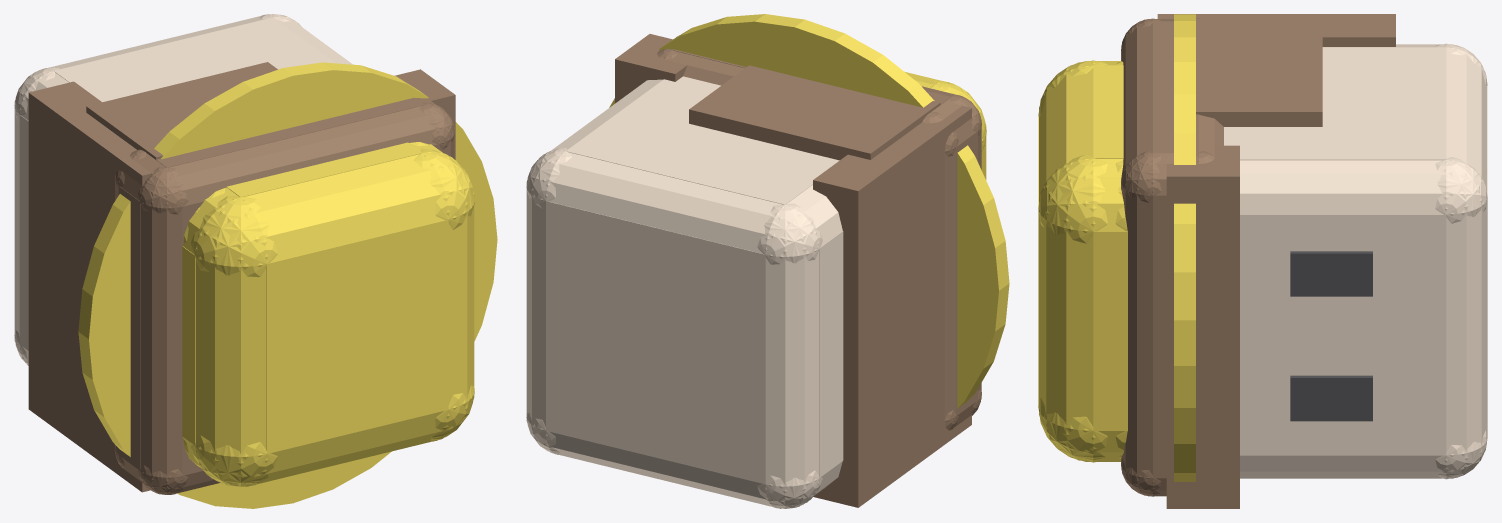
The model's file is head.glb.
3 views of the same model, side by side, from view 1: azimuth 30°, elevation 25°; view 2: azimuth 150°, elevation 25°; view 3: azimuth 270°, elevation 25° (orthographic). The views are drawn at different scales.
Visible parts, largest first — view 1: hat_crown_z_visual, hat_brim_visual, hair_back_visual, hat_crown_edge5_visual, hat_crown_edge3_visual, hair_top_edge5_visual, head_y_visual, hair_top_edge3_visual, hat_crown_edge1_visual, hair_side_left_visual, hat_crown_edge7_visual, hair_top_x_visual (+18 smaller); view 2: head_z_visual, hair_back_visual, hat_brim_visual, head_y_visual, hair_side_left_visual, head_edge4_visual, head_edge2_visual, head_x_visual, head_edge0_visual, head_edge6_visual, hair_top_edge4_visual, head_edge9_visual (+8 smaller); view 3: head_x_visual, hair_fringe_visual, head_y_visual, hair_side_left_visual, hat_crown_edge7_visual, head_edge11_visual, head_edge6_visual, hat_brim_visual, hair_top_edge7_visual, hat_crown_x_visual, hat_crown_edge3_visual, head_edge2_visual (+15 smaller).
Boxes of the visible parts, x1,y1,x2,y2 form: hat_crown_z_visual: [266, 219, 448, 453]; hat_brim_visual: [78, 62, 497, 508]; hair_back_visual: [28, 81, 151, 492]; hat_crown_edge5_visual: [195, 195, 268, 486]; hat_crown_edge3_visual: [190, 151, 474, 275]; hair_top_edge5_visual: [140, 167, 183, 494]; head_y_visual: [54, 17, 335, 102]; hair_top_edge3_visual: [137, 104, 454, 213]; hat_crown_edge1_visual: [190, 386, 474, 486]; hair_side_left_visual: [86, 62, 277, 159]; hat_crown_edge7_visual: [414, 148, 474, 441]; hair_top_x_visual: [118, 186, 140, 470]; head_z_visual: [546, 201, 765, 484]; hair_back_visual: [813, 106, 971, 507]; hat_brim_visual: [609, 14, 1009, 408]; head_y_visual: [566, 76, 839, 204]; hair_side_left_visual: [689, 65, 940, 160]; head_edge4_visual: [764, 203, 819, 508]; head_edge2_visual: [526, 150, 822, 263]; head_x_visual: [819, 231, 843, 477]; head_edge0_visual: [526, 413, 822, 508]; head_edge6_visual: [526, 148, 571, 454]; hair_top_edge4_visual: [922, 112, 956, 428]; head_edge9_visual: [757, 185, 842, 264]; head_x_visual: [1240, 214, 1446, 455]; hair_fringe_visual: [1166, 145, 1239, 508]; head_y_visual: [1224, 47, 1446, 160]; hair_side_left_visual: [1196, 19, 1322, 126]; hat_crown_edge7_visual: [1039, 154, 1107, 461]; head_edge11_visual: [1240, 160, 1487, 217]; head_edge6_visual: [1435, 157, 1486, 478]; hat_brim_visual: [1174, 14, 1195, 481]; hair_top_edge7_visual: [1121, 151, 1161, 496]; hat_crown_x_visual: [1093, 231, 1127, 430]; hat_crown_edge3_visual: [1039, 60, 1107, 243]; head_edge2_visual: [1435, 43, 1486, 223].
Size of the model in its own units: 0.436 by 0.436 by 0.3956.
